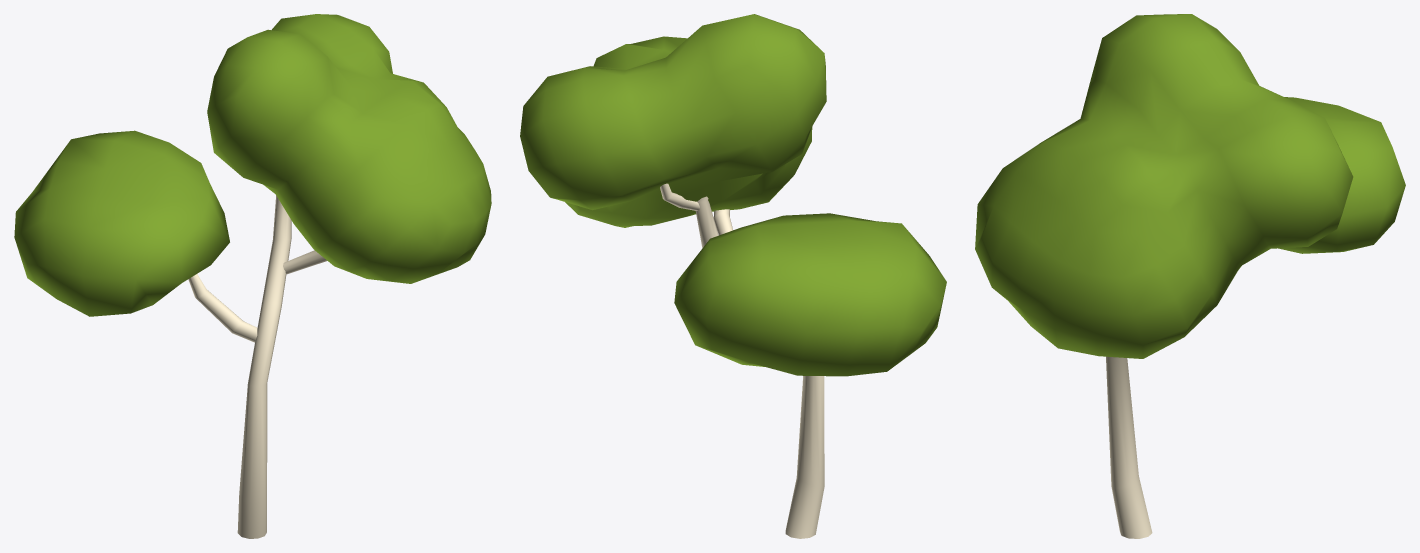
File: Tree_18_Spring.fbx
3 views of the same model, side by side, from view 1: azimuth 30°, elevation 25°; view 2: azimuth 150°, elevation 25°; view 3: azimuth 270°, elevation 25° (orthographic). The views are drawn at different scales.
Parts seen in each view (by area): view 1: Tree_18_p2_Spring, Tree_18_p1_Spring; view 2: Tree_18_p2_Spring, Tree_18_p1_Spring; view 3: Tree_18_p2_Spring, Tree_18_p1_Spring.
Boxes of the visible parts, bbox=[...] form: Tree_18_p2_Spring: bbox=[14, 14, 491, 316]; Tree_18_p1_Spring: bbox=[188, 195, 327, 538]; Tree_18_p2_Spring: bbox=[520, 14, 946, 376]; Tree_18_p1_Spring: bbox=[660, 183, 824, 538]; Tree_18_p2_Spring: bbox=[975, 14, 1405, 358]; Tree_18_p1_Spring: bbox=[1106, 356, 1152, 538].
Size of the model in its own units: 472 by 545 by 399.
